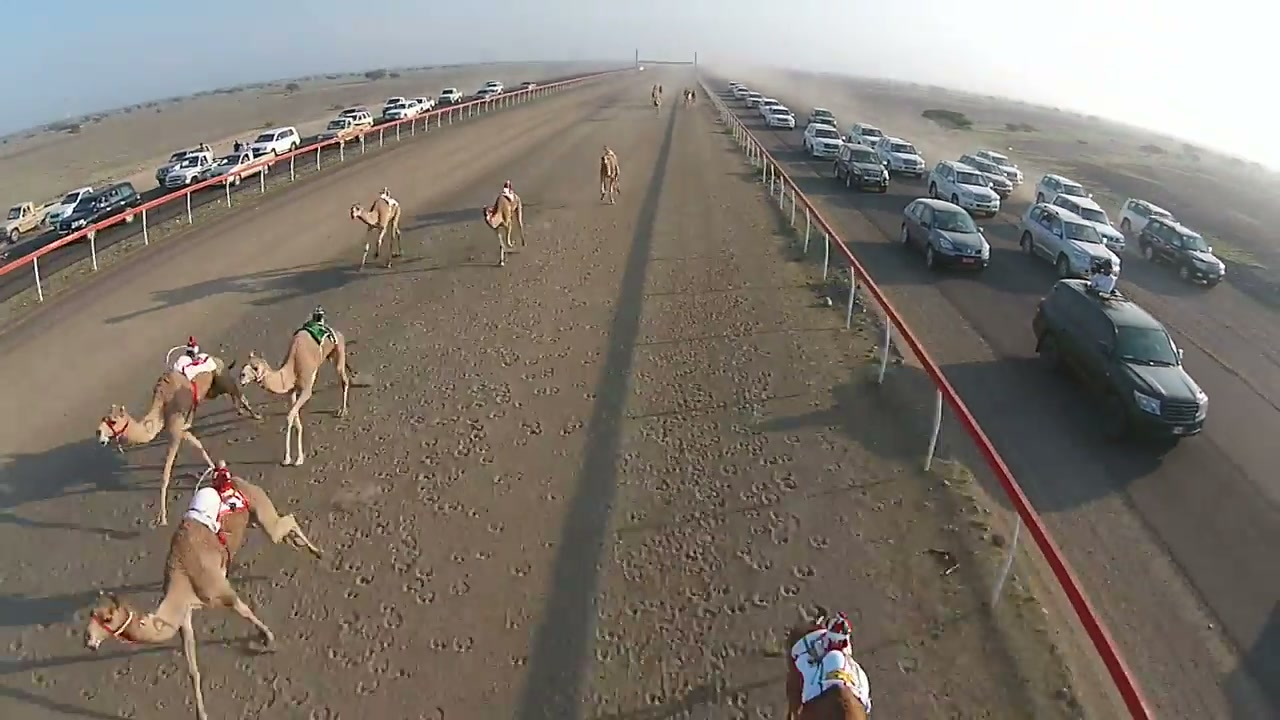animal_footprint: (297, 295, 539, 700)
